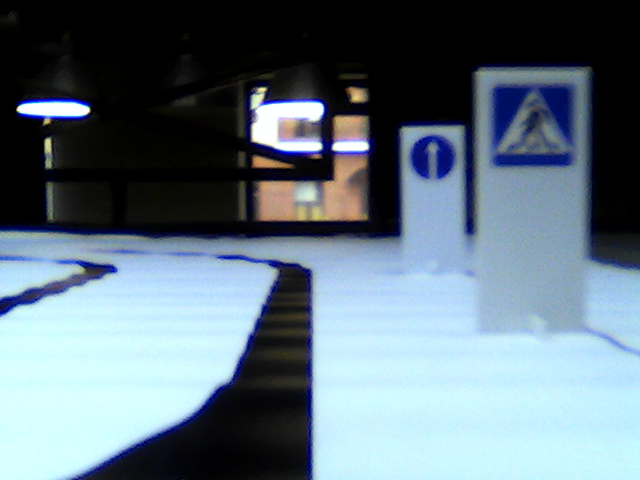forw: (410, 133, 454, 180)
pesh: (496, 90, 574, 167)
